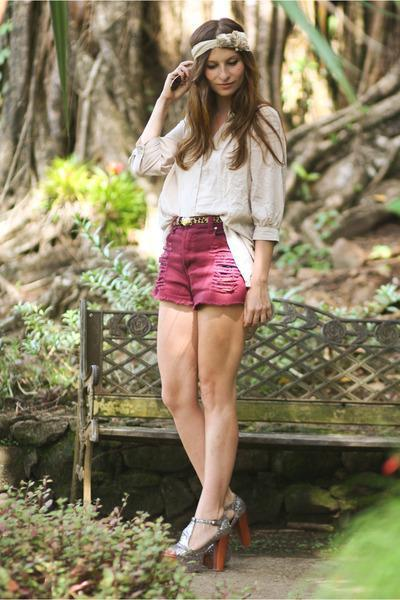shirt: (128, 106, 299, 285)
shoe: (168, 505, 257, 554)
shorts: (156, 214, 249, 319)
